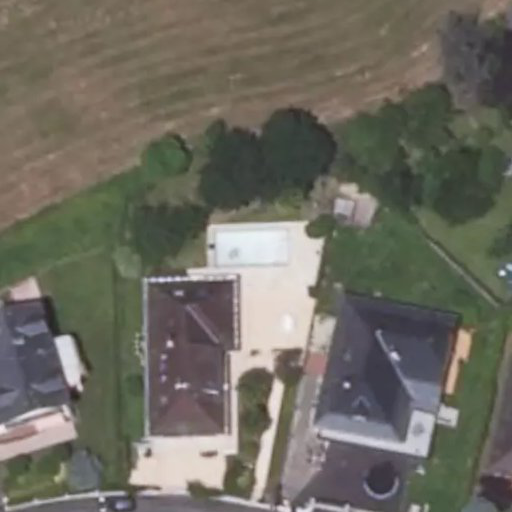pool: (217, 224, 293, 259)
